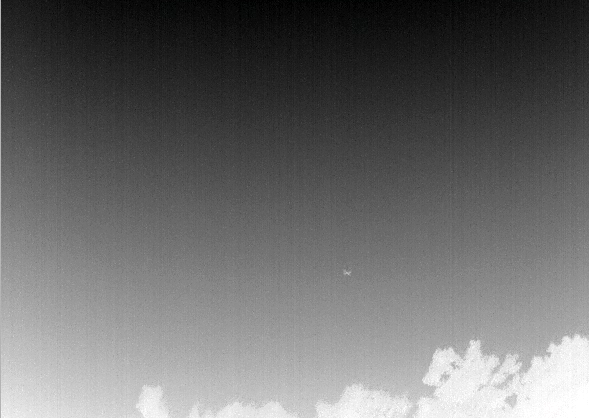dim target: (343, 269, 352, 277)
